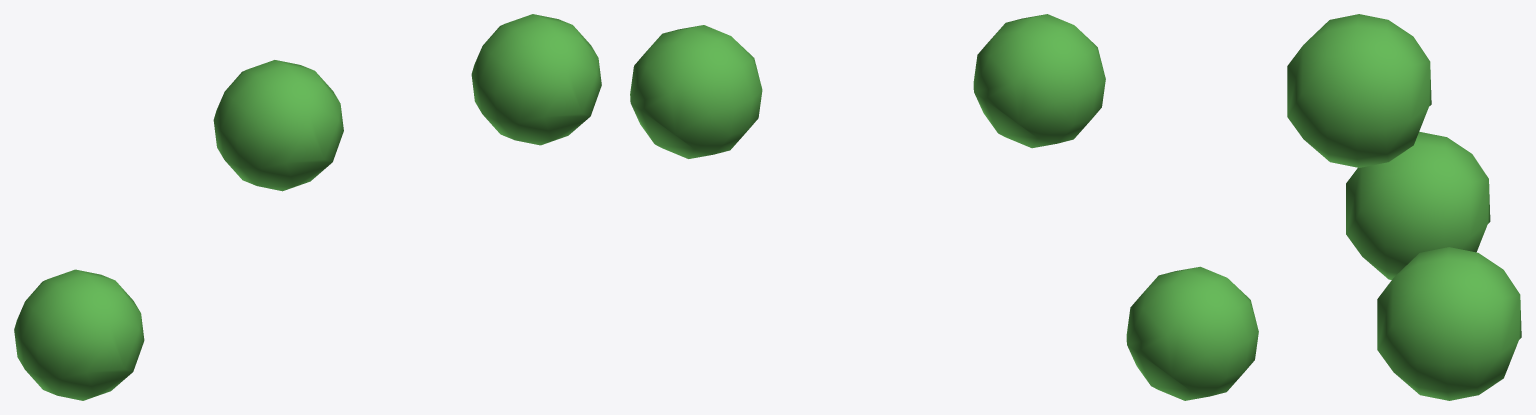
The model's file is linfatico-superomedial-superficial-inguinal-nodes-r.glb.
The picture shows the model from 3 angles, left to right: view 1: azimuth 30°, elevation 25°; view 2: azimuth 150°, elevation 25°; view 3: azimuth 270°, elevation 25°; orthographic projection. The views are drawn at different scales.
Visible parts, largest first — view 1: Superomedial superficial inguinal nodes.r; view 2: Superomedial superficial inguinal nodes.r; view 3: Superomedial superficial inguinal nodes.r.
Part boxes in pixels (box(x1,y1,x2,y2)): Superomedial superficial inguinal nodes.r: box(14, 14, 601, 400); Superomedial superficial inguinal nodes.r: box(630, 14, 1258, 400); Superomedial superficial inguinal nodes.r: box(1287, 14, 1521, 400).
Size of the model in its own units: 0.0133 by 0.00661 by 0.00395.
